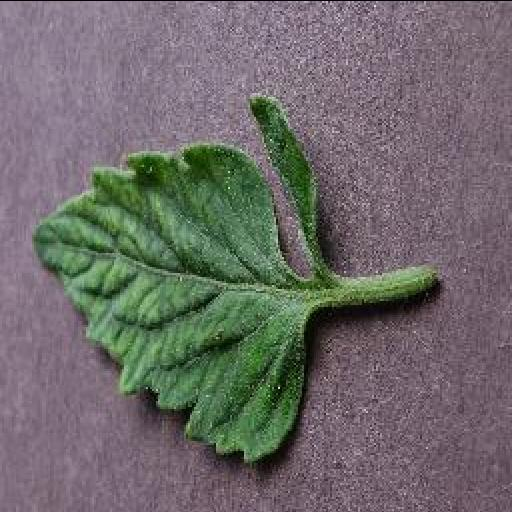Mosaic Virus: (30, 89, 326, 463)
